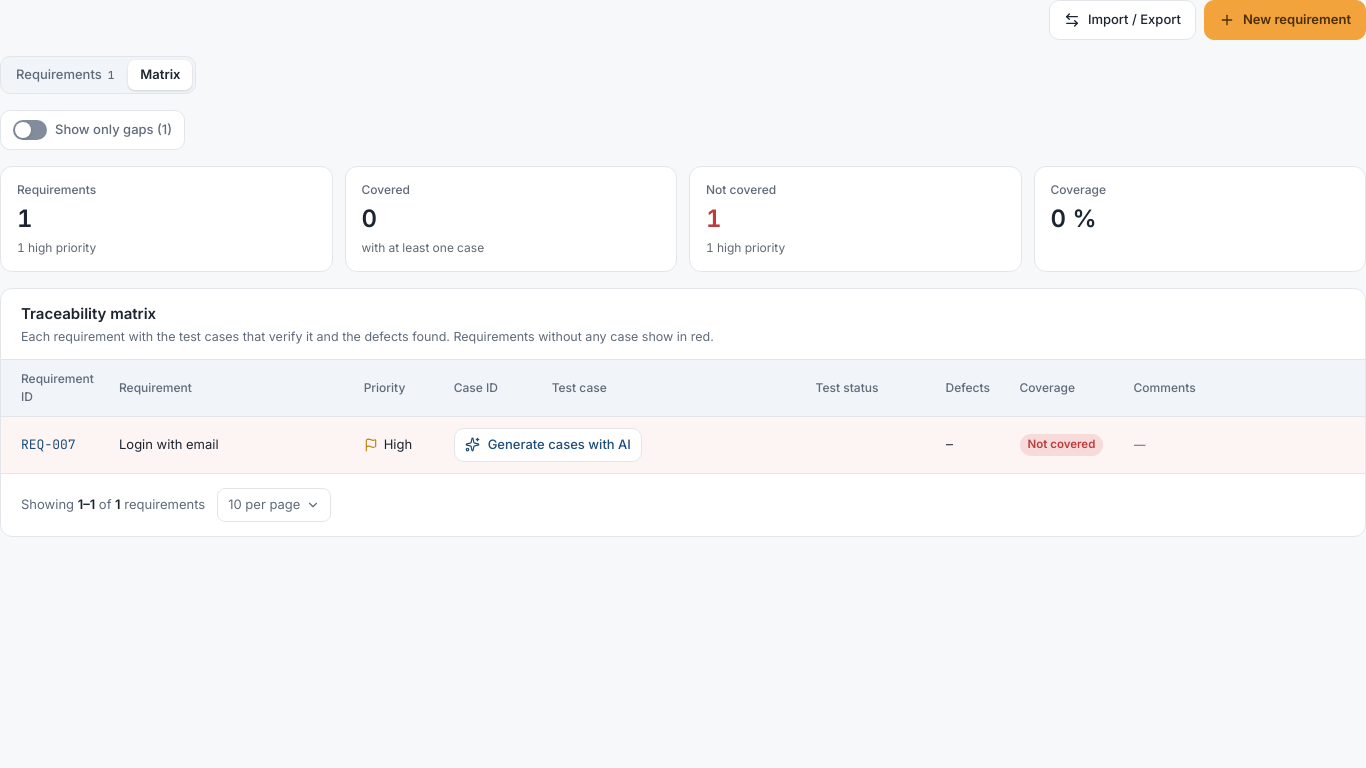
Test: Trazabilidad — AI button on an uncovered requirement (IA-05) › opens the generator when AI is available
Click the button with aria-label "Generate cases with AI from REQ-007". click: (548, 444)
box: [454, 428, 642, 462]
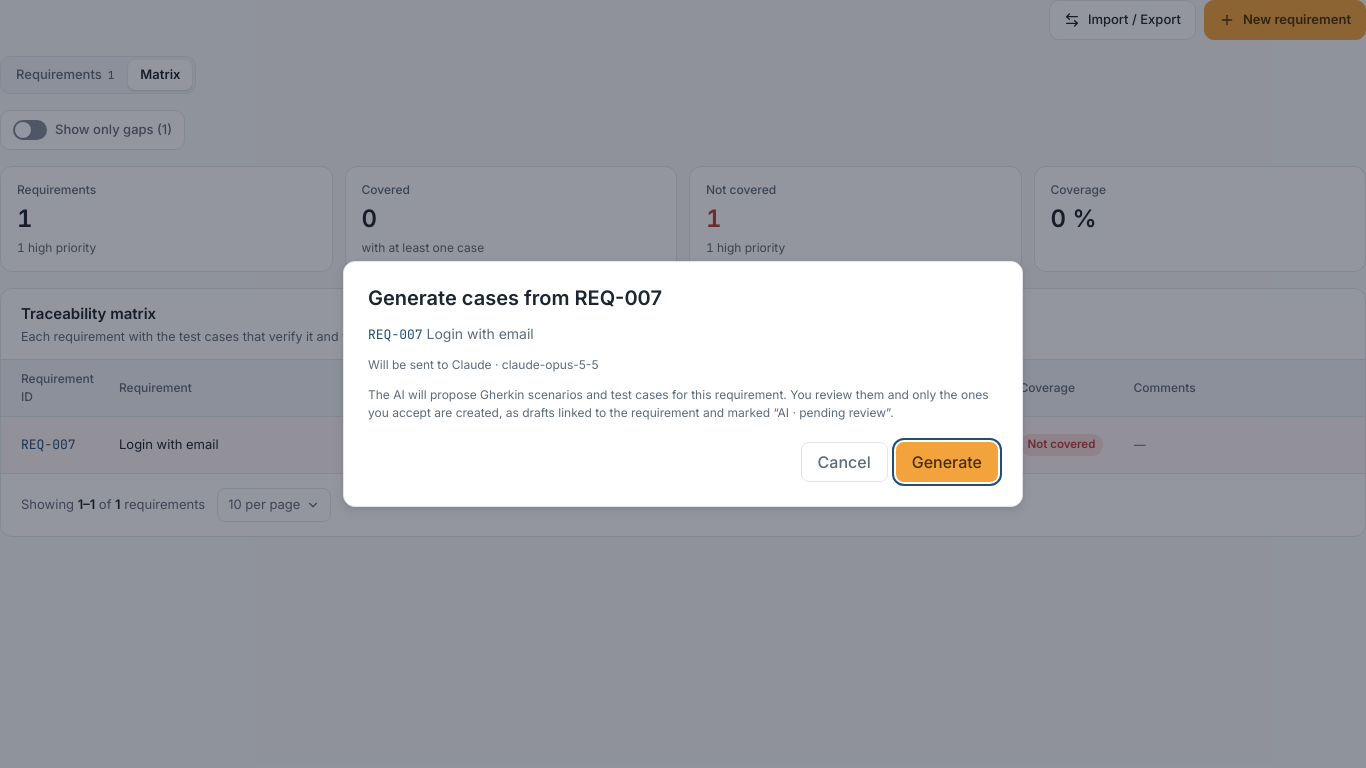
Check: the dialog shows "Generate cases from REQ-007", box [368, 286, 662, 310]
